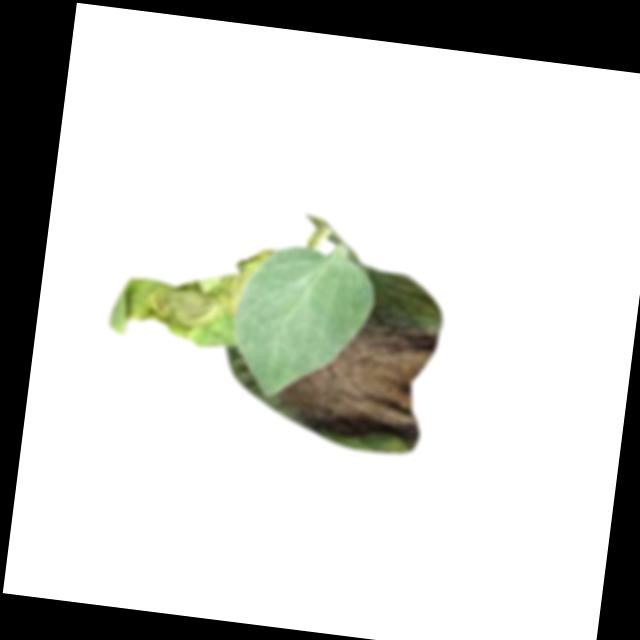Late_blight: (275, 306, 444, 448), (107, 228, 274, 352)
healthy: (228, 233, 382, 407)
